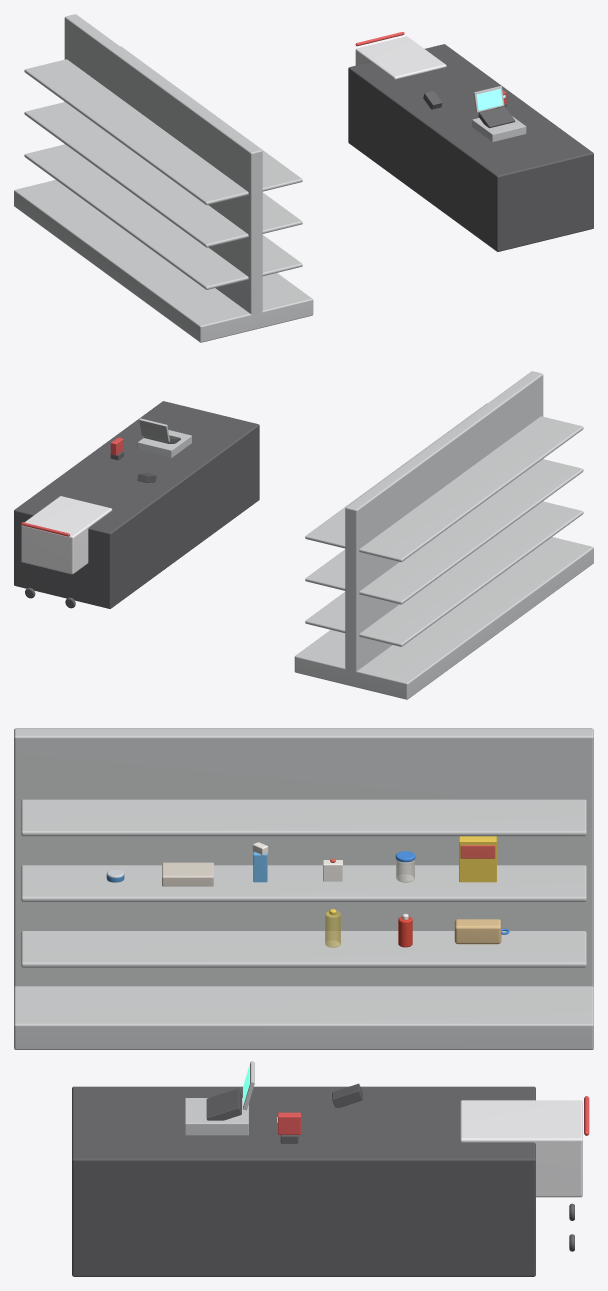
The model's file is supermarket.glb.
3 views of the same model, one above another, from view 1: azimuth 30°, elevation 25°; view 2: azimuth 150°, elevation 25°; view 3: azimuth 270°, elevation 25° (orthographic). The views are drawn at different scales.
Parts seen in each view (by area): view 1: Gondola_Aisle, Checkout_Counter, Shopping_Cart, Cash_Register; view 2: Gondola_Aisle, Checkout_Counter, Shopping_Cart, Cash_Register; view 3: Gondola_Aisle, Checkout_Counter, Shopping_Cart, Cash_Register, Cereal_Box, Egg_Carton, Sliced_Bread, Barcode_Scanner.
Part boxes in pixels (x1,y1,x2,y2): Gondola_Aisle: (14, 14, 313, 342); Checkout_Counter: (348, 44, 593, 251); Shopping_Cart: (355, 32, 446, 79); Cash_Register: (472, 86, 526, 141); Gondola_Aisle: (294, 371, 593, 699); Checkout_Counter: (14, 401, 259, 608); Shopping_Cart: (21, 496, 112, 608); Cash_Register: (137, 418, 191, 457); Gondola_Aisle: (14, 728, 593, 1049); Checkout_Counter: (72, 1086, 535, 1276); Shopping_Cart: (460, 1096, 589, 1251); Cash_Register: (185, 1061, 254, 1135); Cereal_Box: (459, 836, 496, 882); Egg_Carton: (162, 862, 213, 886); Sliced_Bread: (454, 919, 509, 944); Barcode_Scanner: (277, 1112, 300, 1143).
Size of what is drawn, in the model's own units: 5.1 by 2.1 by 4.
